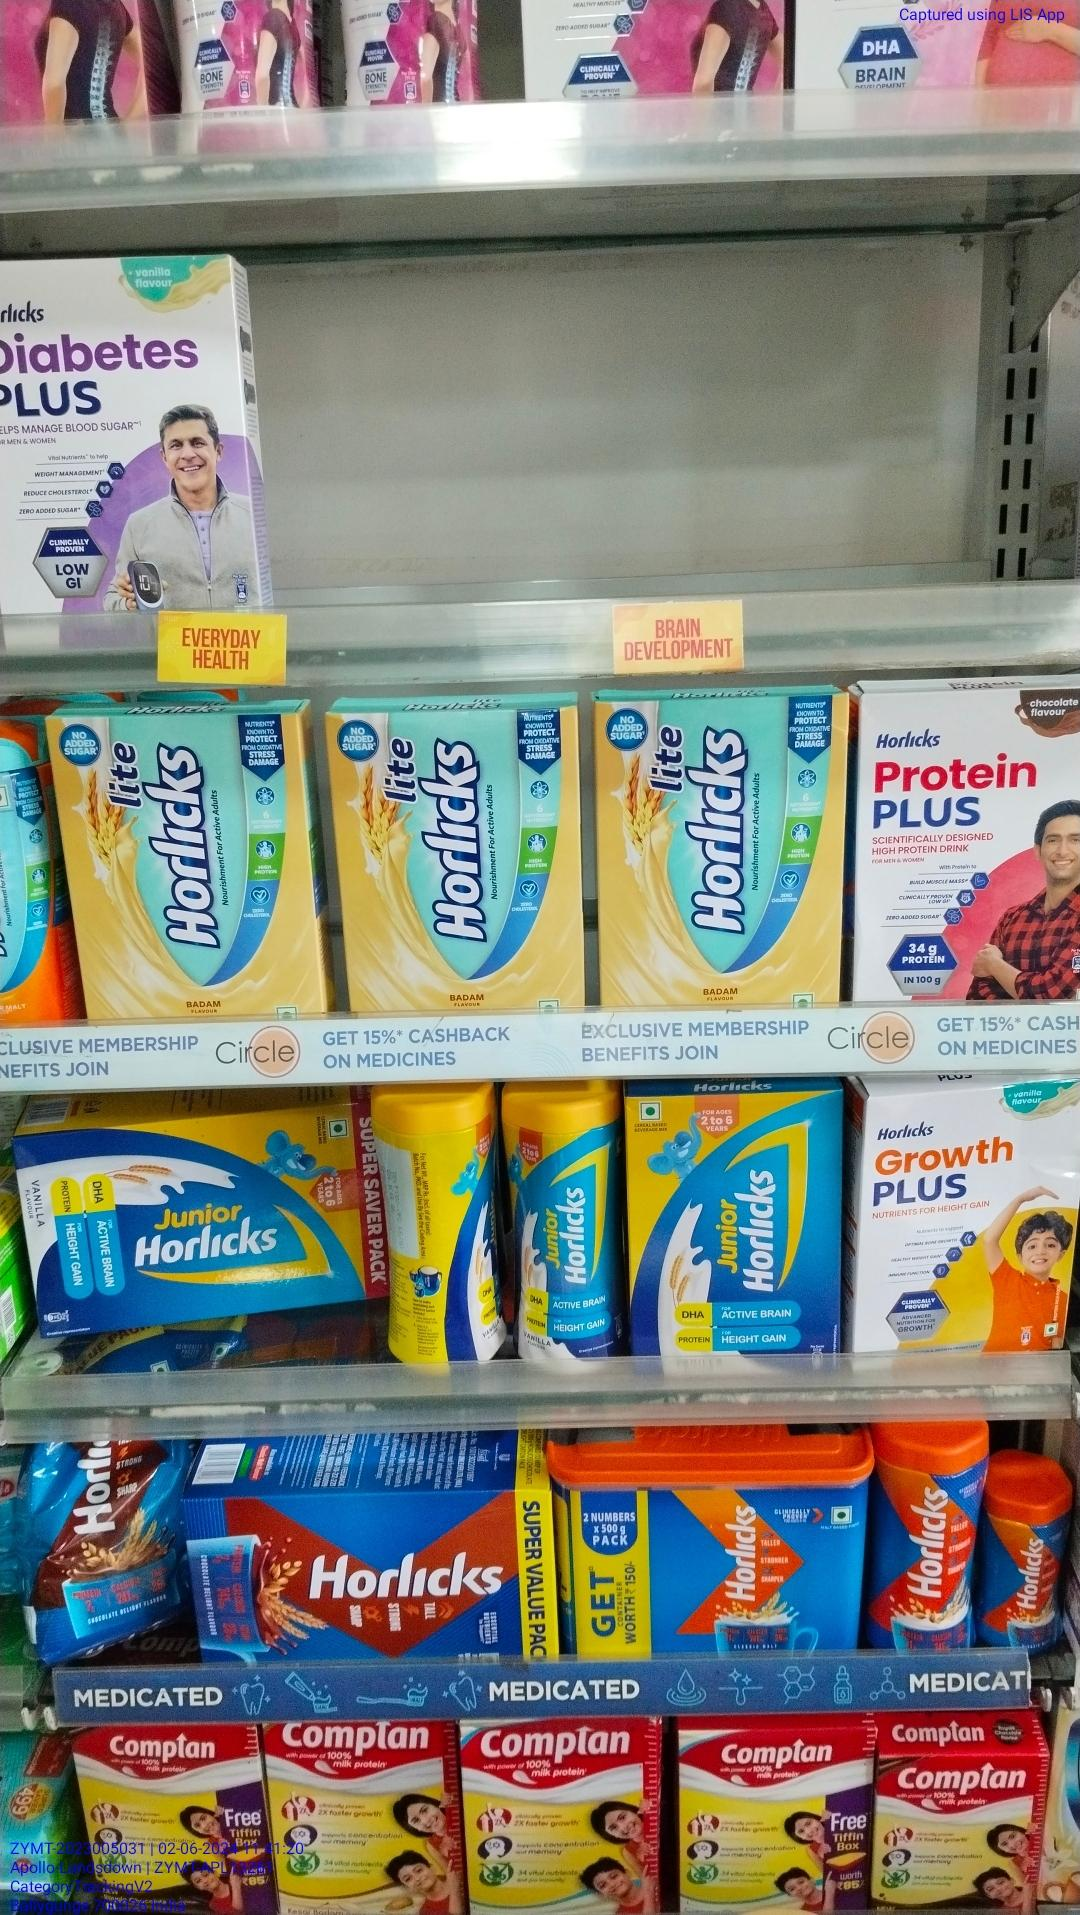HORLICKS_JUNIOR_VANILLA_500_GM_JAR: (510, 1088, 612, 1388)
